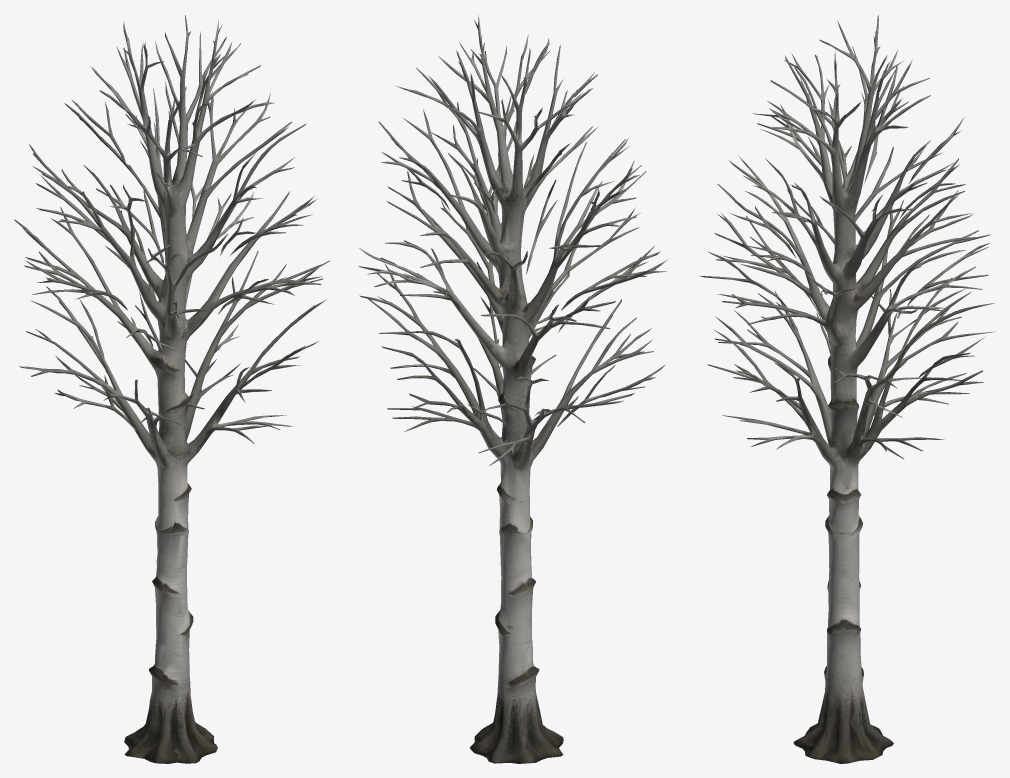
File: berch.opt.glb
3 views of the same model, side by side, from view 1: azimuth 30°, elevation 25°; view 2: azimuth 150°, elevation 25°; view 3: azimuth 270°, elevation 25° (orthographic).
Parts seen in each view (by area): view 1: node_0; view 2: node_0; view 3: node_0.
Part boxes in pixels (x1,y1,x2,y2): node_0: (14, 15, 329, 763); node_0: (358, 15, 669, 763); node_0: (700, 14, 995, 763).
Bounding box in the file's own units: 0.503 × 1.19 × 0.4477.
1 material, 1 textured.
